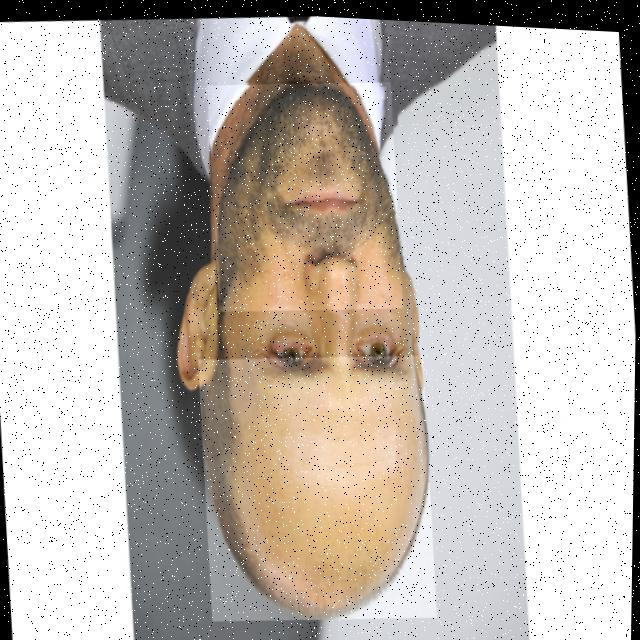beard: (201, 357, 429, 615), (216, 80, 401, 299)
